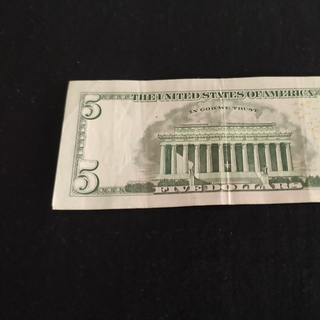5USDBack: (50, 72, 320, 211)
